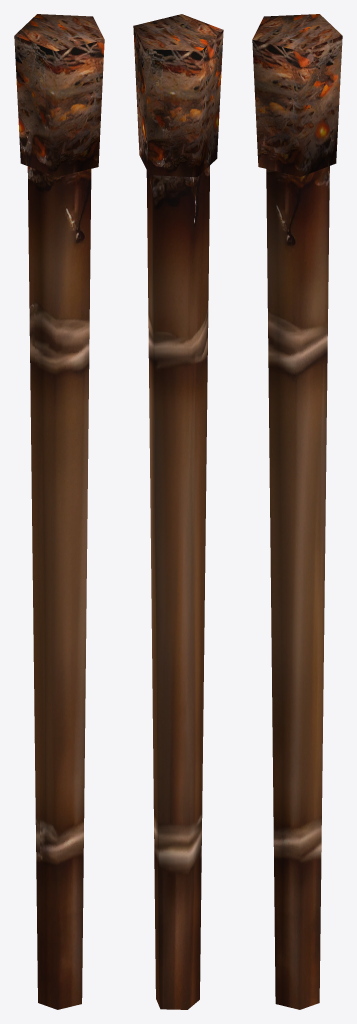
The model's file is generaltorch01.obj.
3 views of the same model, side by side, from view 1: azimuth 30°, elevation 25°; view 2: azimuth 210°, elevation 25°; view 3: azimuth 330°, elevation 25° (orthographic).
Visible parts, largest first — view 1: generaltorch01; view 2: generaltorch01; view 3: generaltorch01.
Boxes of the visible parts, x1,y1,x2,y2 form: generaltorch01: [14, 14, 104, 1009]; generaltorch01: [133, 14, 223, 1009]; generaltorch01: [252, 14, 342, 1009].
Bounding box in the file's own units: 0.1876 × 2.21 × 0.1785.
1 material, 1 textured.
